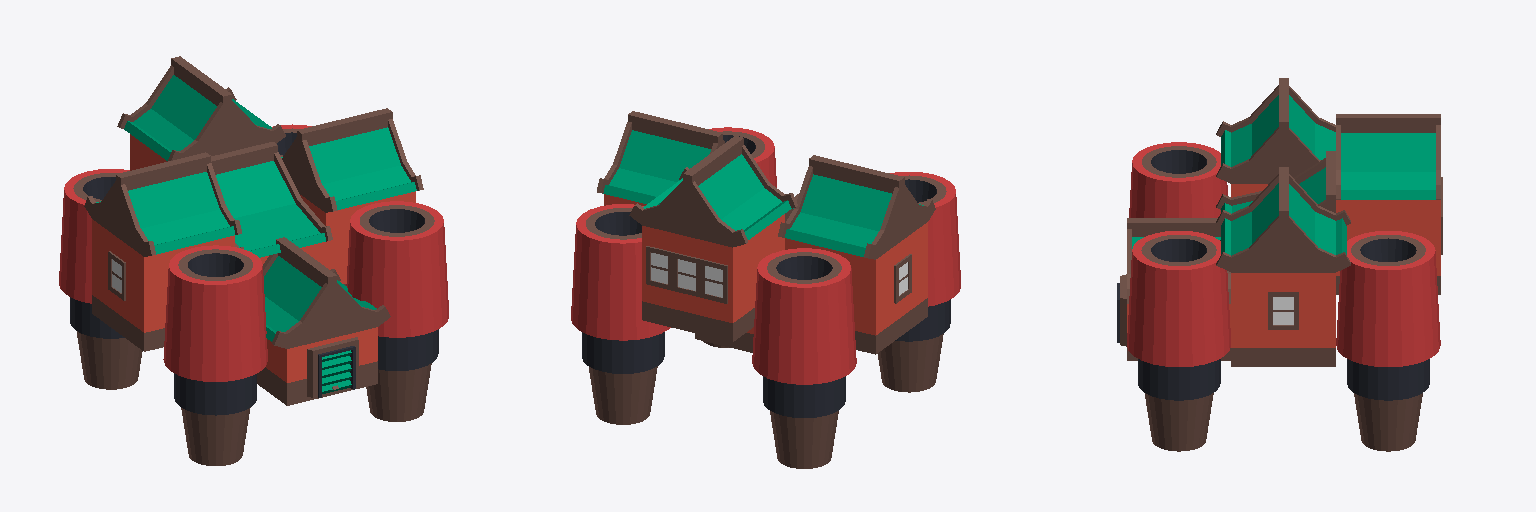
Rendered from StorrusShip.obj.
The picture shows the model from 3 angles: view 1: azimuth 30°, elevation 25°; view 2: azimuth 150°, elevation 25°; view 3: azimuth 270°, elevation 25°; orthographic projection.
Parts seen in each view (by area): view 1: mergedBlocks; view 2: mergedBlocks; view 3: mergedBlocks.
Boxes of the visible parts, <box> form: mergedBlocks: <box>59,56,448,465</box>; mergedBlocks: <box>571,111,960,468</box>; mergedBlocks: <box>1117,78,1442,451</box>.
Bounding box in the file's own units: 3.04 × 2.95 × 3.11.